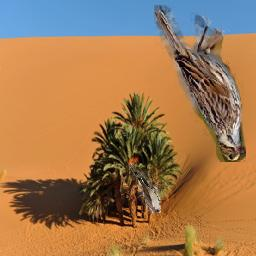Cuckoo: (129, 163, 161, 213)
Sparrow: (154, 6, 246, 163)
